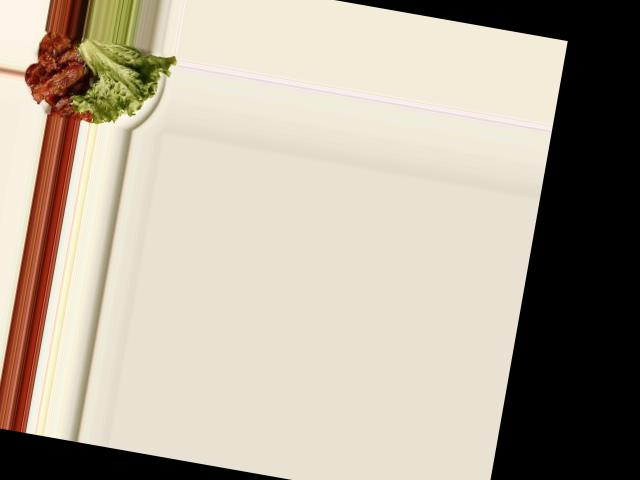lettuce: (67, 36, 173, 132)
